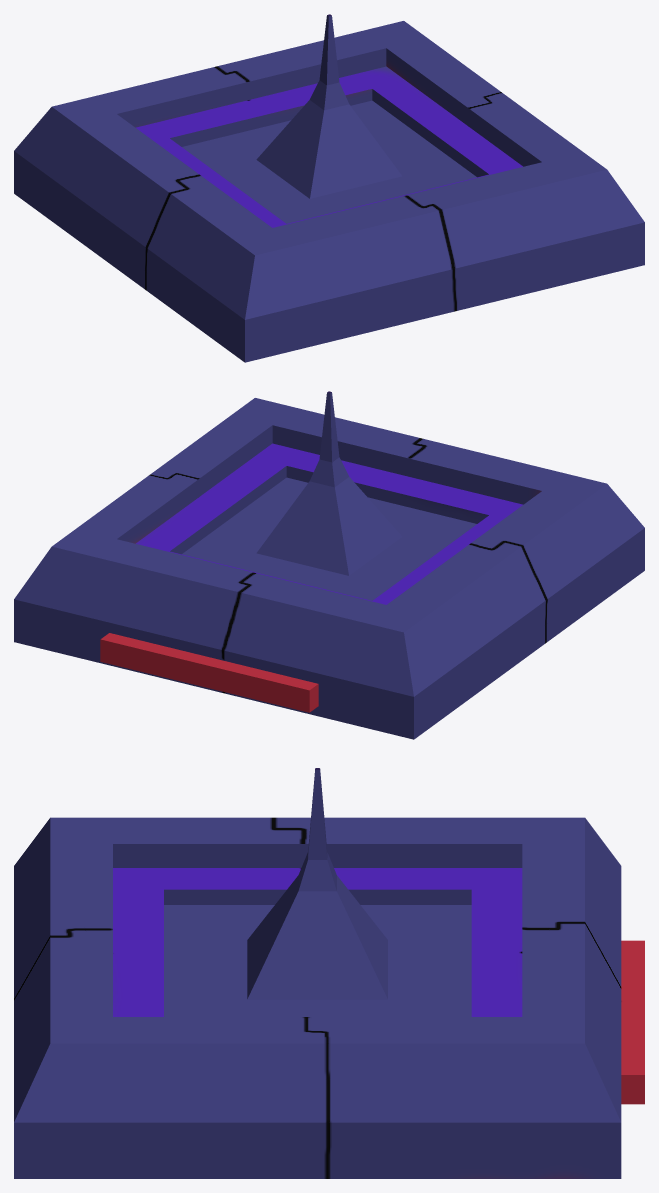
Rendered from LandMine.fbx.
The picture shows the model from 3 angles, top to bottom: view 1: azimuth 30°, elevation 25°; view 2: azimuth 150°, elevation 25°; view 3: azimuth 270°, elevation 25°; orthographic projection. The views are drawn at different scales.
Visible parts, largest first — view 1: Cube; view 2: Cube; view 3: Cube.
Part boxes in pixels (<box>): Cube: <box>14,14,644,362</box>; Cube: <box>14,391,644,739</box>; Cube: <box>14,768,644,1178</box>.
Bounding box in the file's own units: 200 × 102 × 208.
